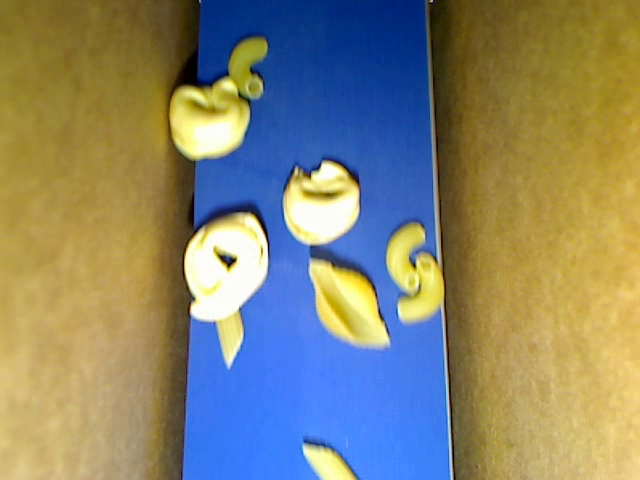elbow: (397, 252, 445, 324), (385, 221, 427, 294), (229, 36, 268, 99)
penne: (301, 443, 358, 479), (216, 309, 244, 368)
shell: (309, 257, 389, 349)
tortellini: (182, 212, 268, 321), (169, 76, 250, 161), (282, 160, 360, 243)
